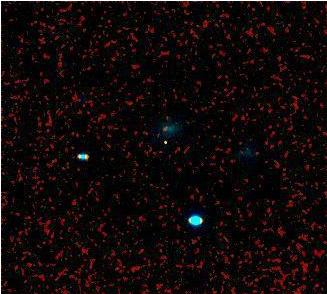star: (150, 127, 180, 157)
